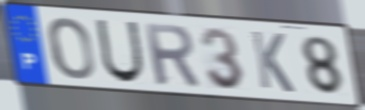3: (198, 25, 247, 92)
8: (298, 34, 347, 97)
K: (248, 29, 297, 96)
O: (46, 16, 97, 82)
R: (140, 21, 202, 88)
U: (93, 17, 146, 85)
